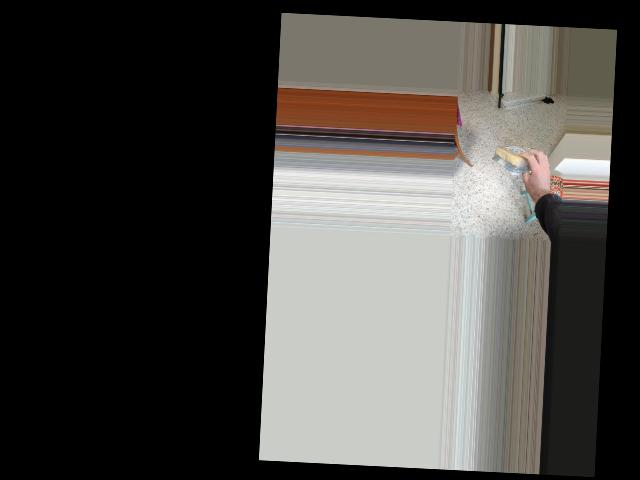cheese: (491, 144, 538, 169)
